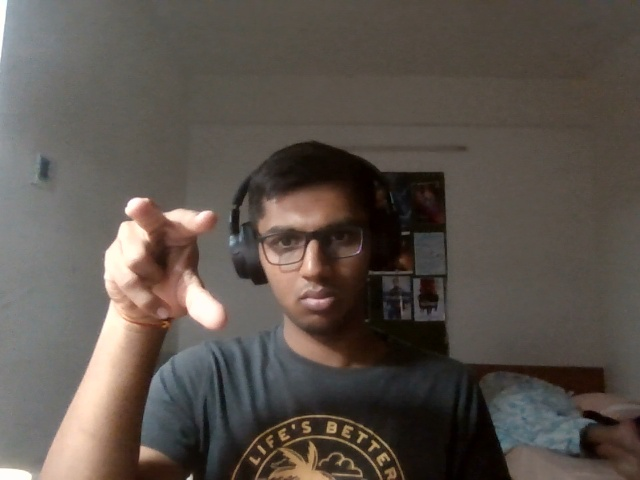no: (102, 184, 240, 352)
